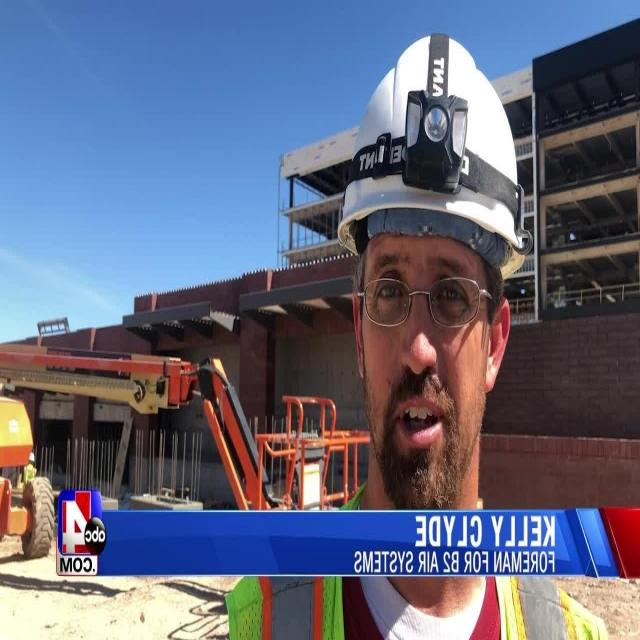Reflective-Jacket: (215, 568, 604, 640)
Safety-Helmet: (332, 28, 528, 258)
